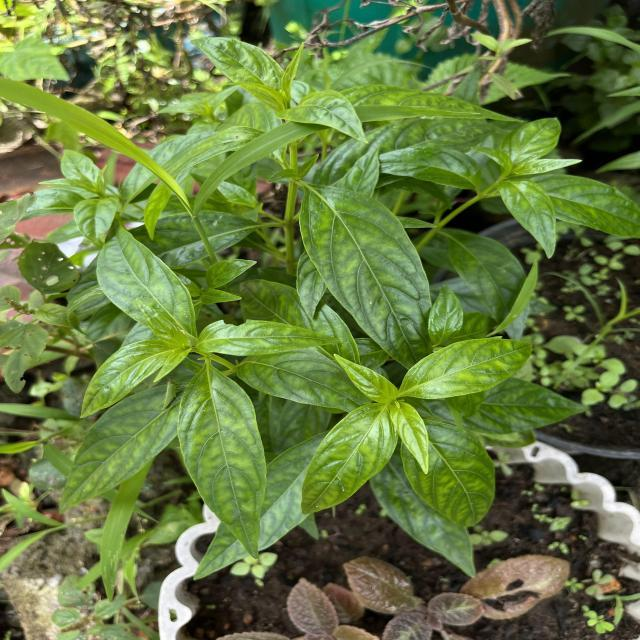Andrographis paniculata: (302, 182, 432, 362), (176, 364, 268, 560), (58, 383, 177, 516), (96, 218, 197, 340), (298, 404, 399, 516), (400, 418, 497, 528), (396, 336, 537, 402), (79, 338, 177, 420), (188, 36, 287, 108), (195, 318, 344, 357), (497, 178, 557, 259), (331, 352, 398, 404), (391, 400, 432, 475), (500, 116, 562, 160)
